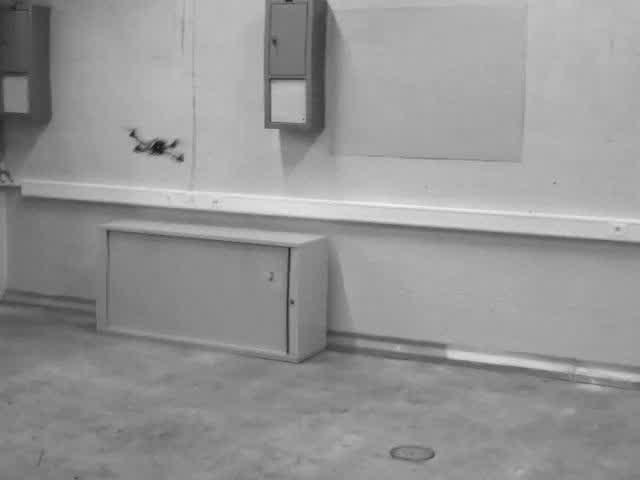drone: (124, 130, 184, 166)
